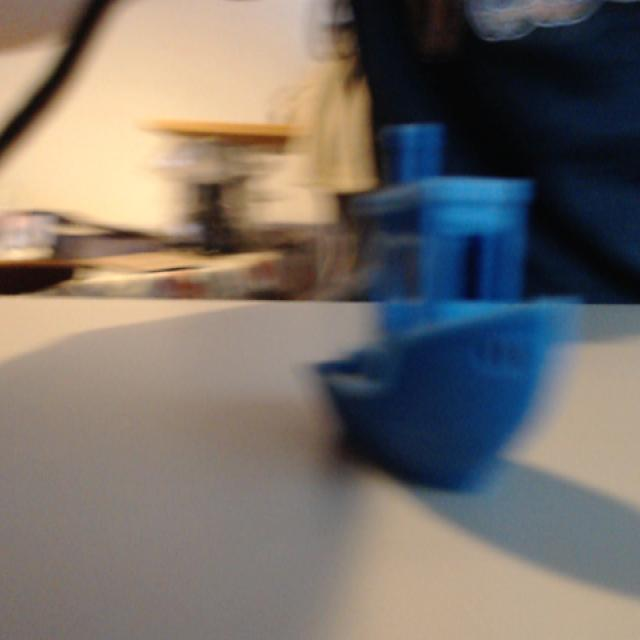benchy: (308, 121, 581, 495)
